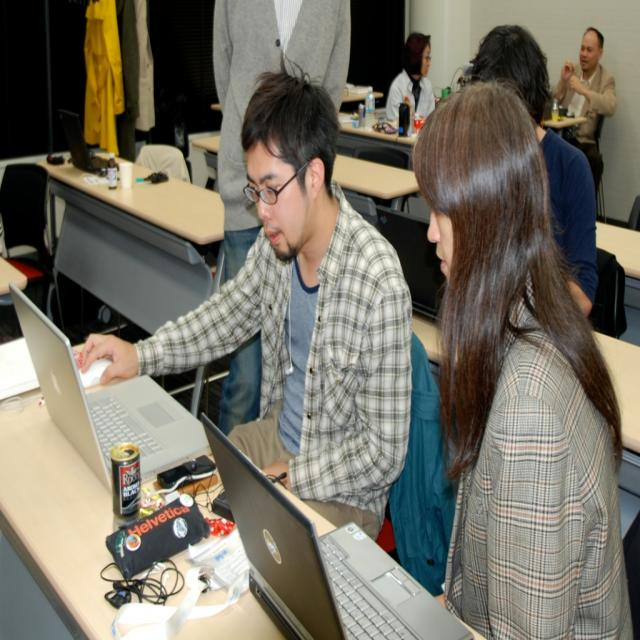chair: (383, 331, 455, 600), (0, 164, 59, 326), (375, 206, 445, 320), (332, 152, 418, 205), (588, 247, 628, 339), (136, 144, 191, 184), (627, 193, 640, 231)
desk: (0, 340, 486, 640)
laptop: (201, 414, 475, 636), (10, 284, 208, 494), (58, 108, 108, 174)
person: (76, 67, 416, 536), (414, 80, 628, 635), (461, 24, 600, 317), (212, 1, 352, 289), (554, 27, 618, 210), (385, 32, 435, 128)
